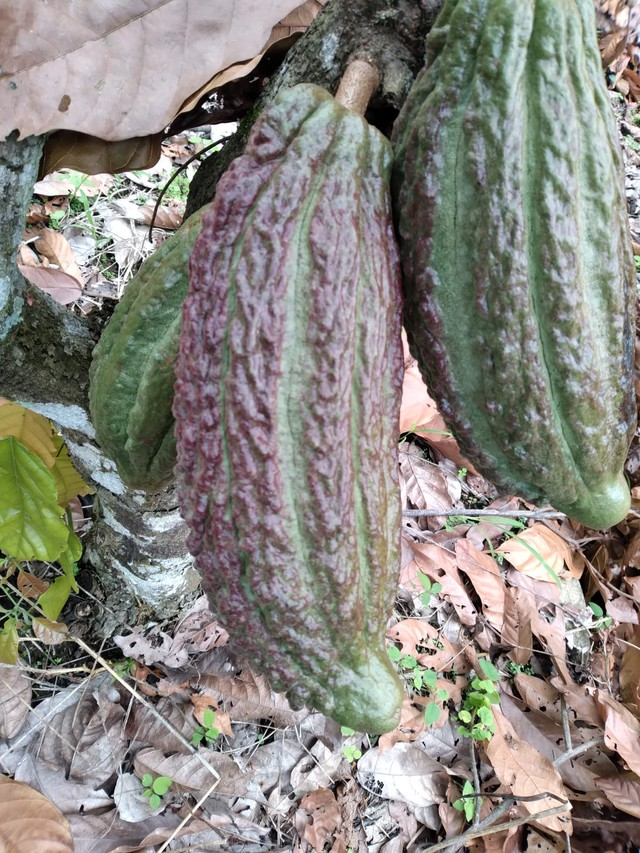Health: (162, 73, 429, 742), (391, 4, 635, 550)
